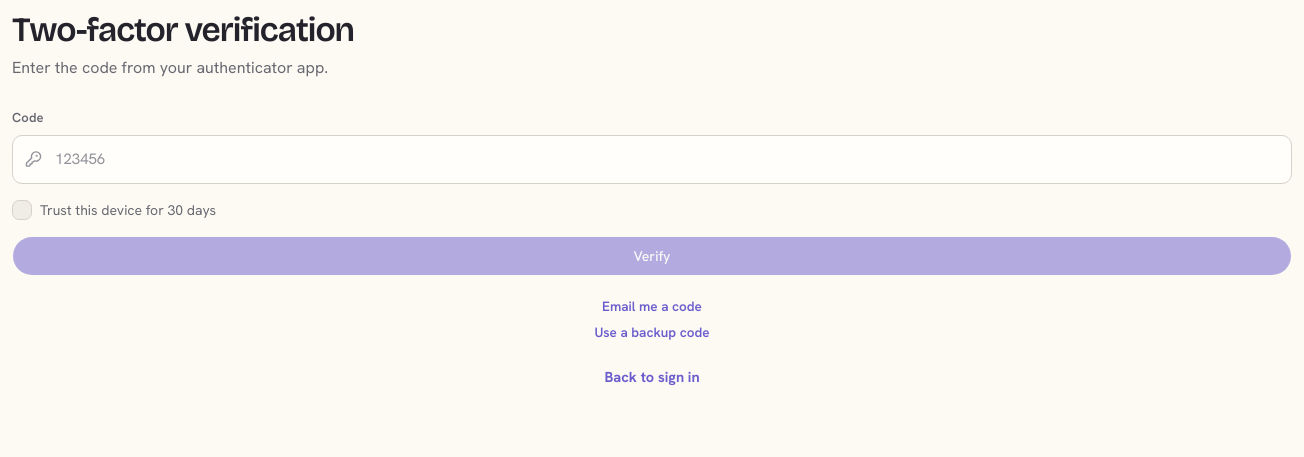
Scenario: TwoFactorPage › shows the mapped message for a wrong code and stays usable
Type "000000" into the field labelled "Code" at (652, 159), box [12,135,1292,184]
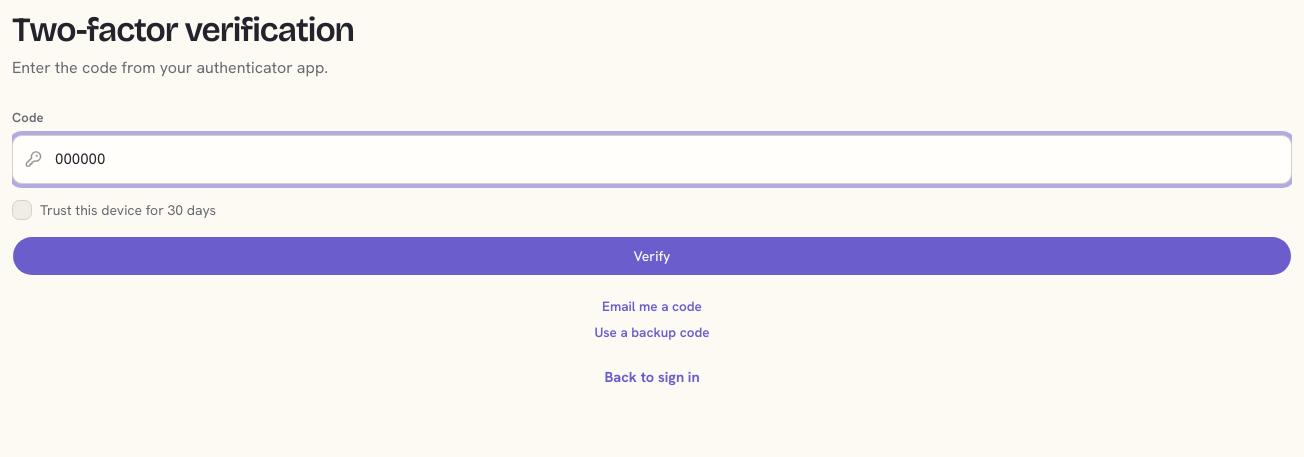
Click the button "Verify" at (652, 256), box [12,236,1292,276]
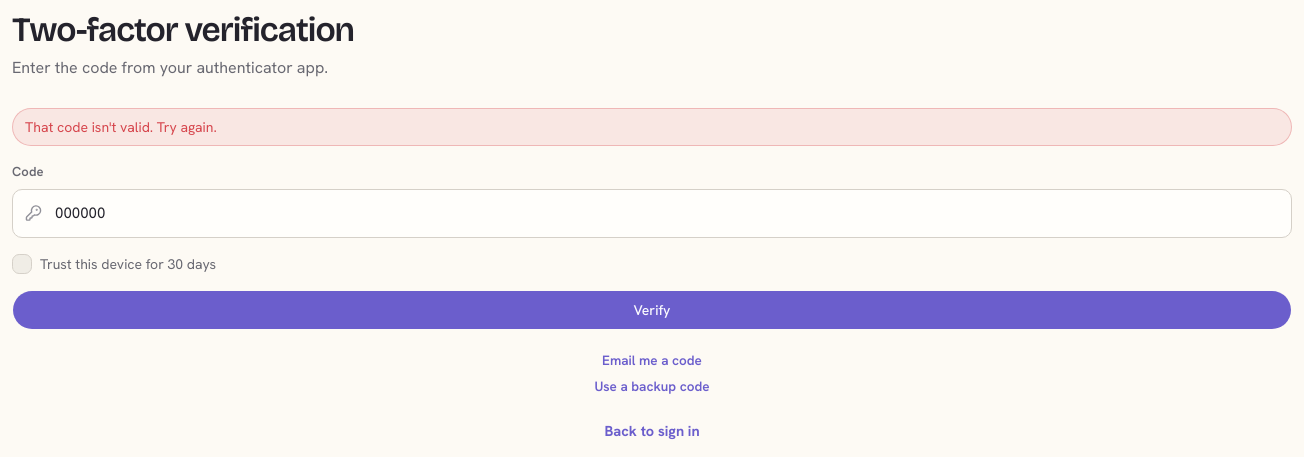
Check: the field labelled "Code" is enabled, box [12,189,1292,238]
Check: the text "That code isn't valid. Try again." is shown, box [12,108,1292,146]
